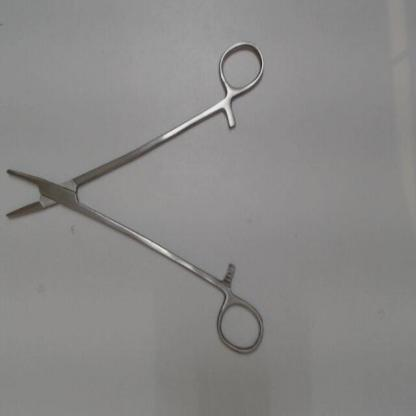8 Mayo Needle Holder: (1, 31, 275, 364)
